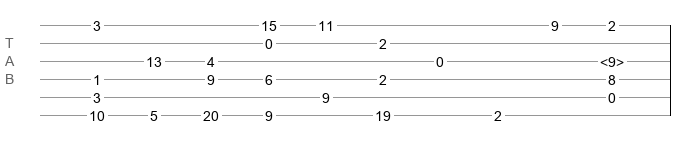0: (265, 36, 273, 46), (436, 54, 444, 64), (608, 90, 616, 100)
1: (93, 72, 101, 82)
10: (89, 108, 105, 118)
11: (318, 18, 334, 28)
13: (146, 54, 162, 64)
15: (261, 18, 277, 28)
19: (375, 108, 391, 118)
2: (379, 72, 387, 82), (379, 36, 387, 46), (494, 108, 502, 118), (608, 18, 616, 28)
20: (203, 108, 219, 118)
3: (93, 18, 101, 28), (93, 90, 101, 100)
4: (207, 54, 215, 64)
5: (150, 108, 158, 118)
6: (265, 72, 273, 82)
8: (608, 72, 616, 82)
9: (207, 72, 215, 82), (265, 108, 273, 118), (322, 90, 330, 100), (551, 18, 559, 28)
harmonic: (600, 54, 624, 64)
